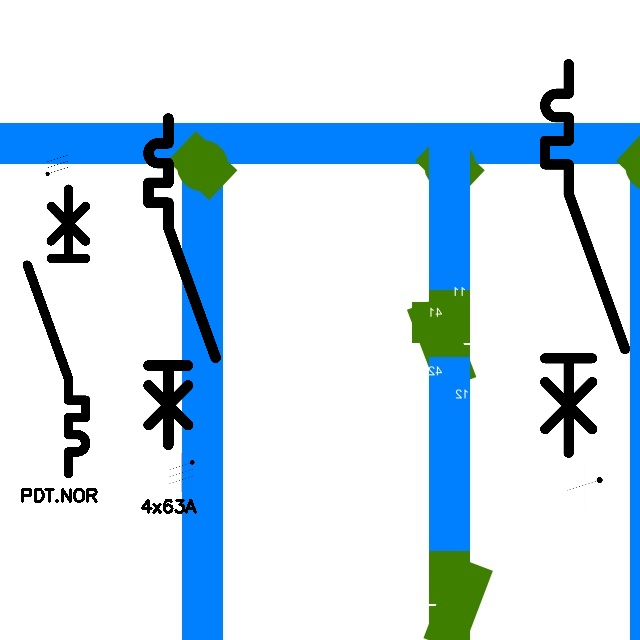interruptor_termomagnetico: (535, 54, 635, 463), (140, 110, 224, 453), (20, 181, 93, 480)
